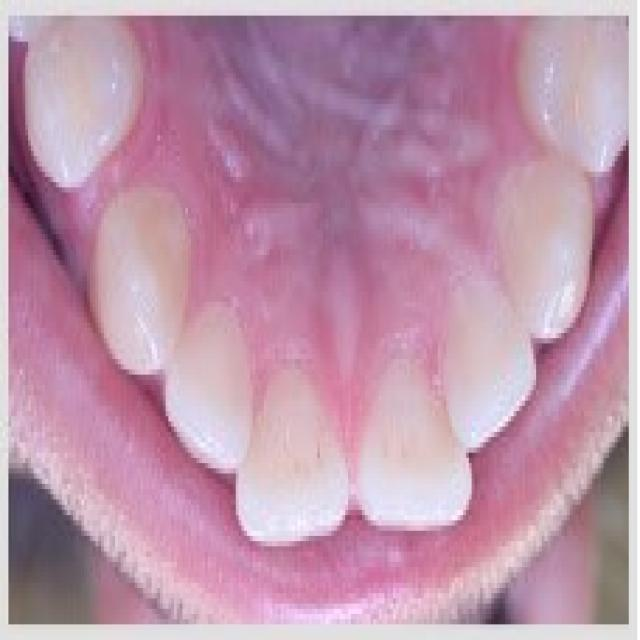tooth: (241, 380, 348, 572), (506, 136, 604, 344), (430, 281, 536, 453), (93, 198, 188, 359), (365, 416, 471, 552), (533, 42, 626, 187), (28, 31, 126, 167), (180, 333, 238, 474)
